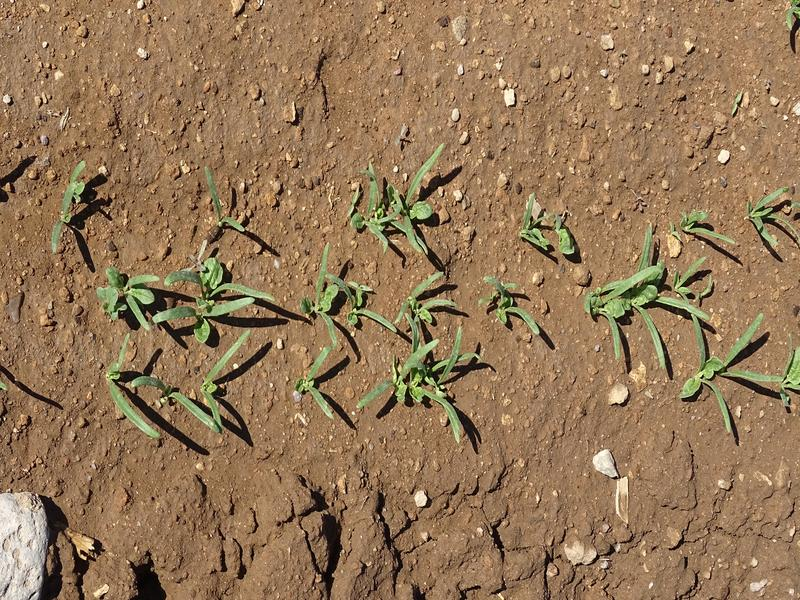Espinaca: (580, 187, 798, 426), (74, 255, 277, 444), (300, 260, 482, 446), (340, 149, 452, 254), (486, 273, 547, 340), (519, 196, 581, 260), (44, 161, 86, 251), (204, 170, 253, 237)
